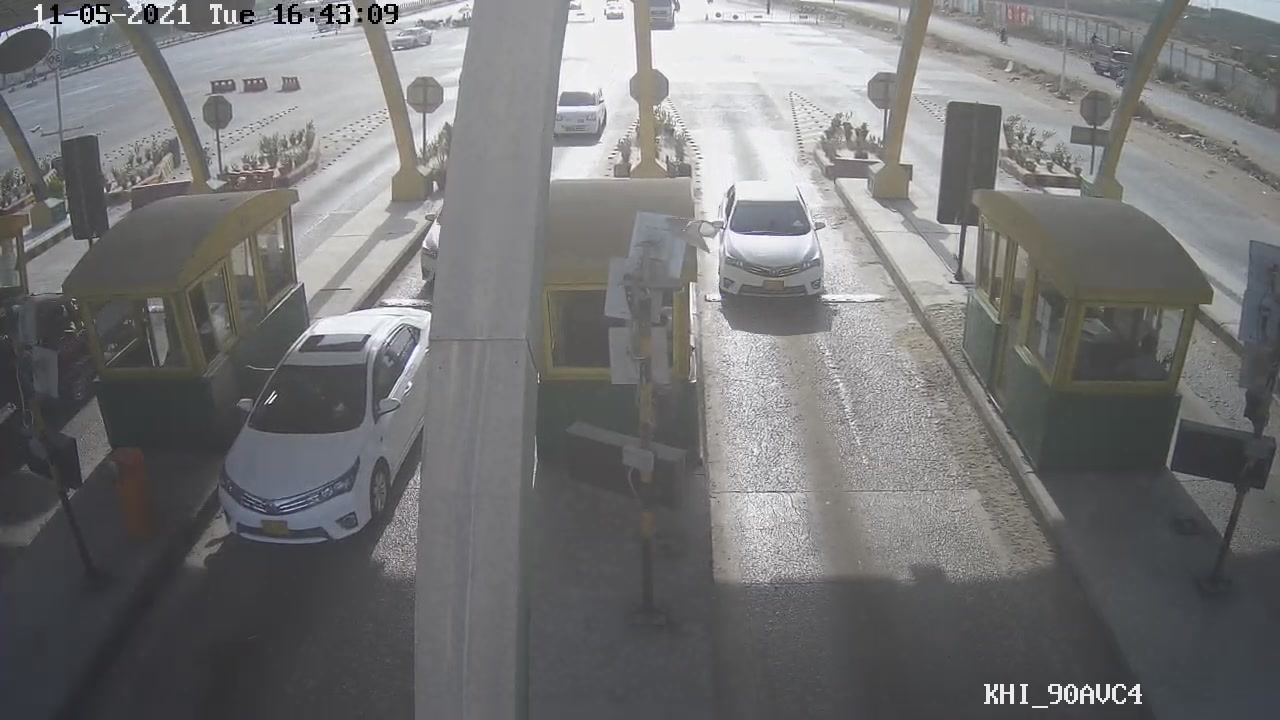F1: (715, 170, 837, 307)
